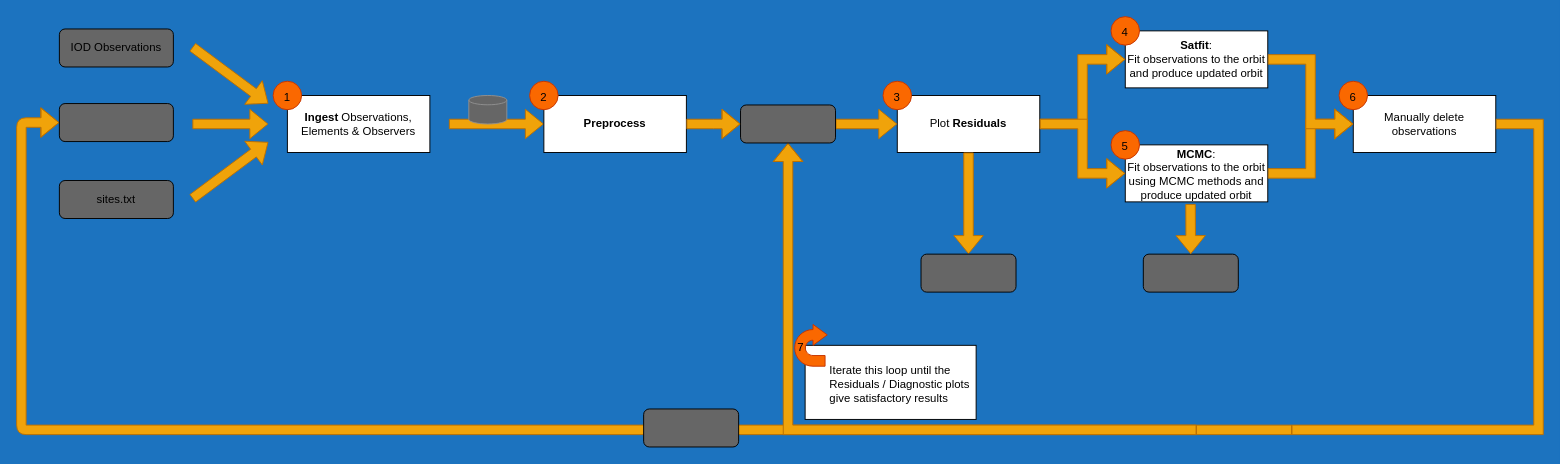
Image size: 1560x464. Some labels were removed from this diagram. The centre of each missing label's shape, as x and y in pixels:
analysis.yml: [788,123]
DB: [487,109]
MCMC Diagnostic Plots: [1190,272]
Residuials Plots: [968,272]
TLE: [691,427]
TLEs: [115,122]
